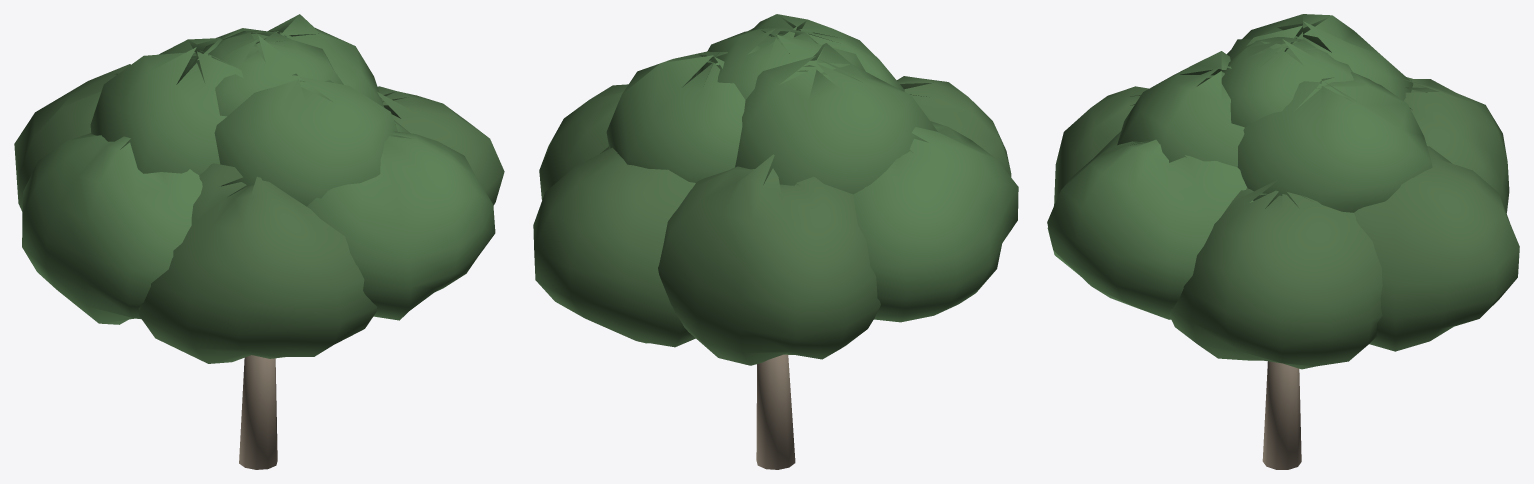
The model's file is mango.glb.
3 views of the same model, side by side, from view 1: azimuth 30°, elevation 25°; view 2: azimuth 150°, elevation 25°; view 3: azimuth 270°, elevation 25° (orthographic). The views are drawn at different scales.
Visible parts, largest first — view 1: mango_canopy_mango, mango_canopy_mango_shade, mango_canopy_bark; view 2: mango_canopy_mango_shade, mango_canopy_mango, mango_canopy_bark; view 3: mango_canopy_mango, mango_canopy_mango_shade, mango_canopy_bark.
Part boxes in pixels (x1,y1,x2,y2): mango_canopy_mango: (22, 14, 495, 324); mango_canopy_mango_shade: (14, 64, 504, 363); mango_canopy_bark: (239, 355, 277, 469); mango_canopy_mango_shade: (533, 76, 1011, 365); mango_canopy_mango: (606, 14, 1018, 322); mango_canopy_bark: (756, 354, 795, 469); mango_canopy_mango: (1047, 14, 1432, 319); mango_canopy_mango_shade: (1054, 77, 1519, 369); mango_canopy_bark: (1262, 361, 1301, 469).
Bounding box in the file's own units: 12.85 × 11.98 × 12.12.
